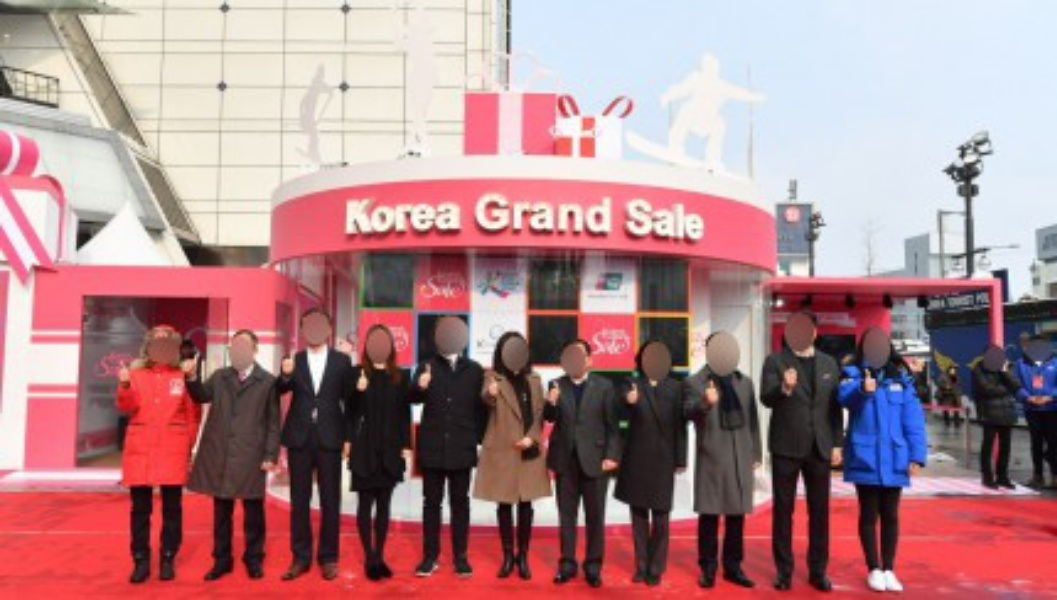text: (625, 197, 640, 241), (641, 197, 656, 241), (657, 197, 672, 241), (673, 197, 688, 241), (689, 197, 704, 241), (481, 192, 496, 234), (497, 192, 512, 234), (513, 192, 528, 234), (529, 192, 544, 234), (545, 192, 560, 234), (561, 192, 576, 234), (577, 192, 592, 234), (593, 192, 608, 234), (353, 197, 368, 234), (369, 197, 384, 234), (385, 197, 400, 234), (401, 197, 416, 234), (417, 197, 432, 234), (433, 197, 448, 234), (449, 197, 463, 234), (342, 197, 352, 234), (472, 192, 480, 234), (929, 288, 944, 310), (945, 288, 960, 310), (961, 288, 976, 310), (977, 288, 989, 310), (609, 192, 613, 234), (622, 197, 624, 241), (705, 197, 706, 241), (927, 288, 928, 310)
